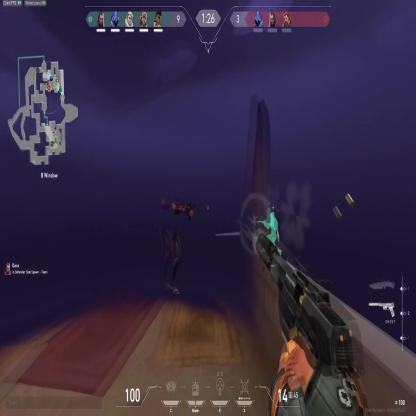enemy: (156, 181, 194, 299)
